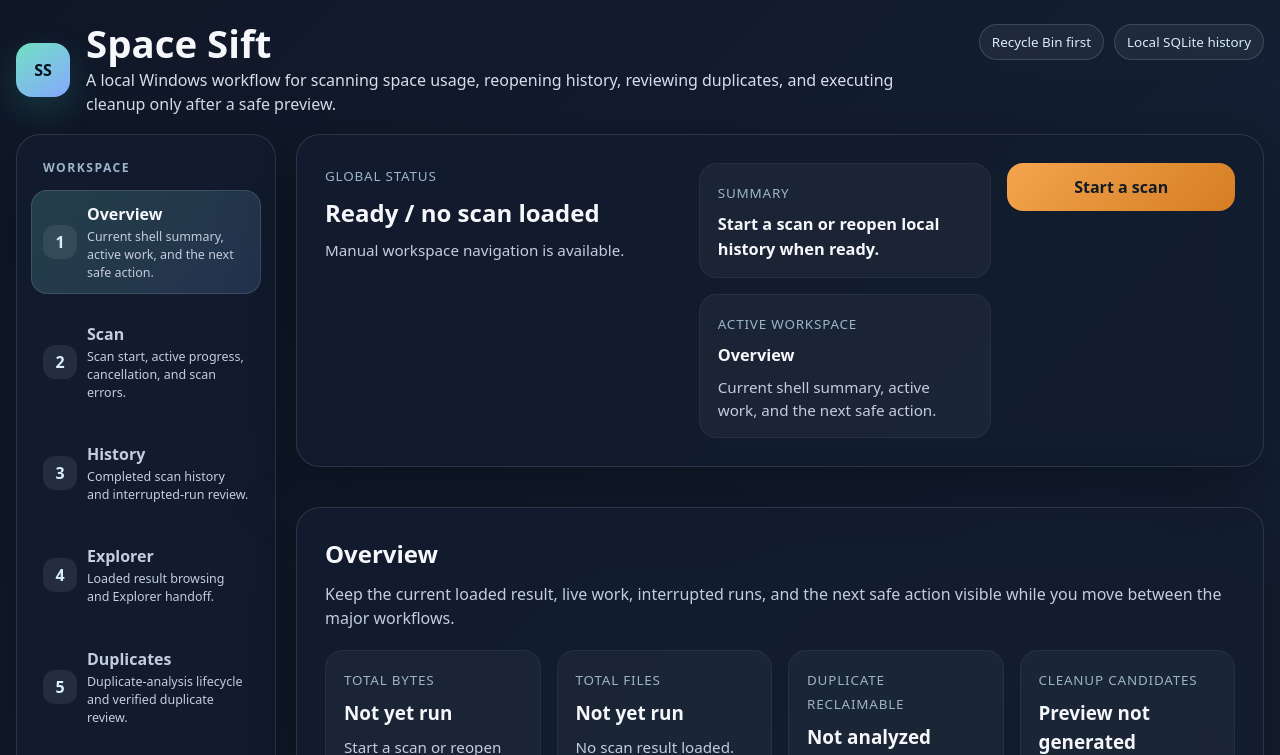
it: Space Sift milestone 2 shell › shows the branded product and scan workspace
Expected: the heading "Space Sift" is shown, [86,17,271,69]
Click the tab "Scan": (146, 362) [31,310,261,414]
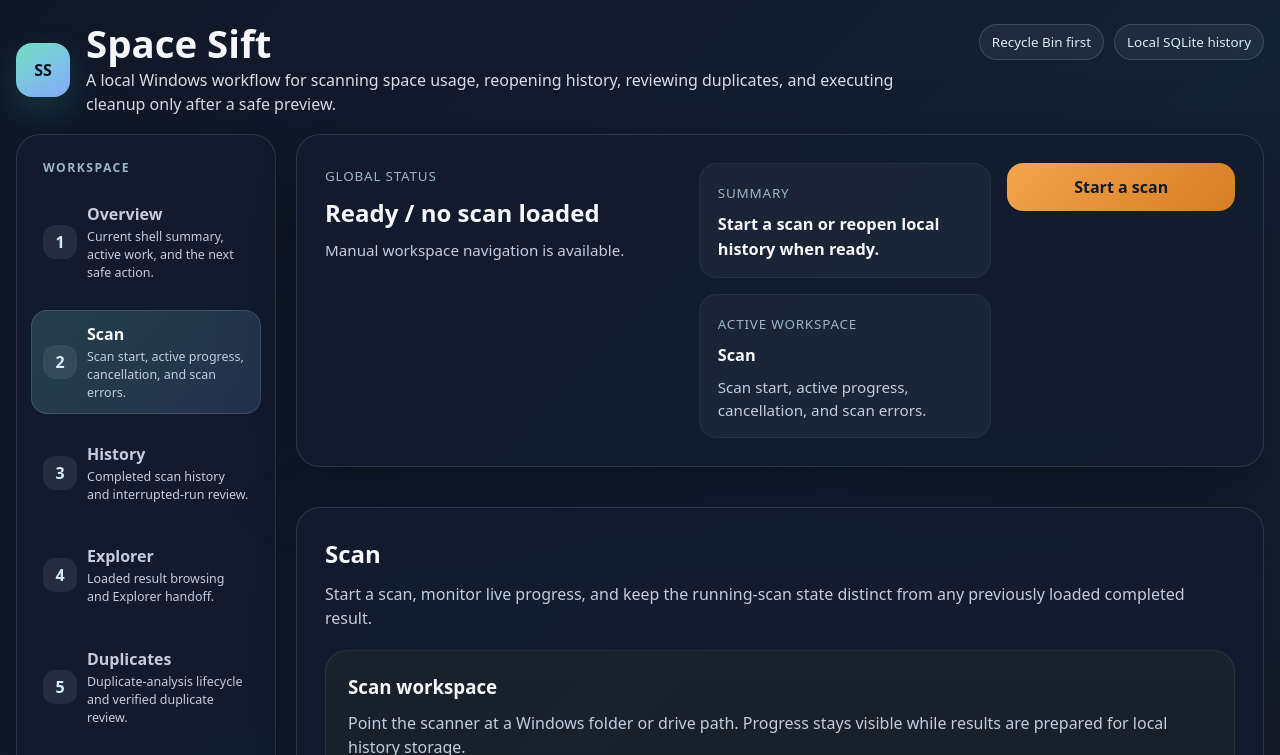
Expected: the heading "Scan workspace" is shown, [348,674,497,699]
Click the tab "History": (146, 473) [31,430,261,516]
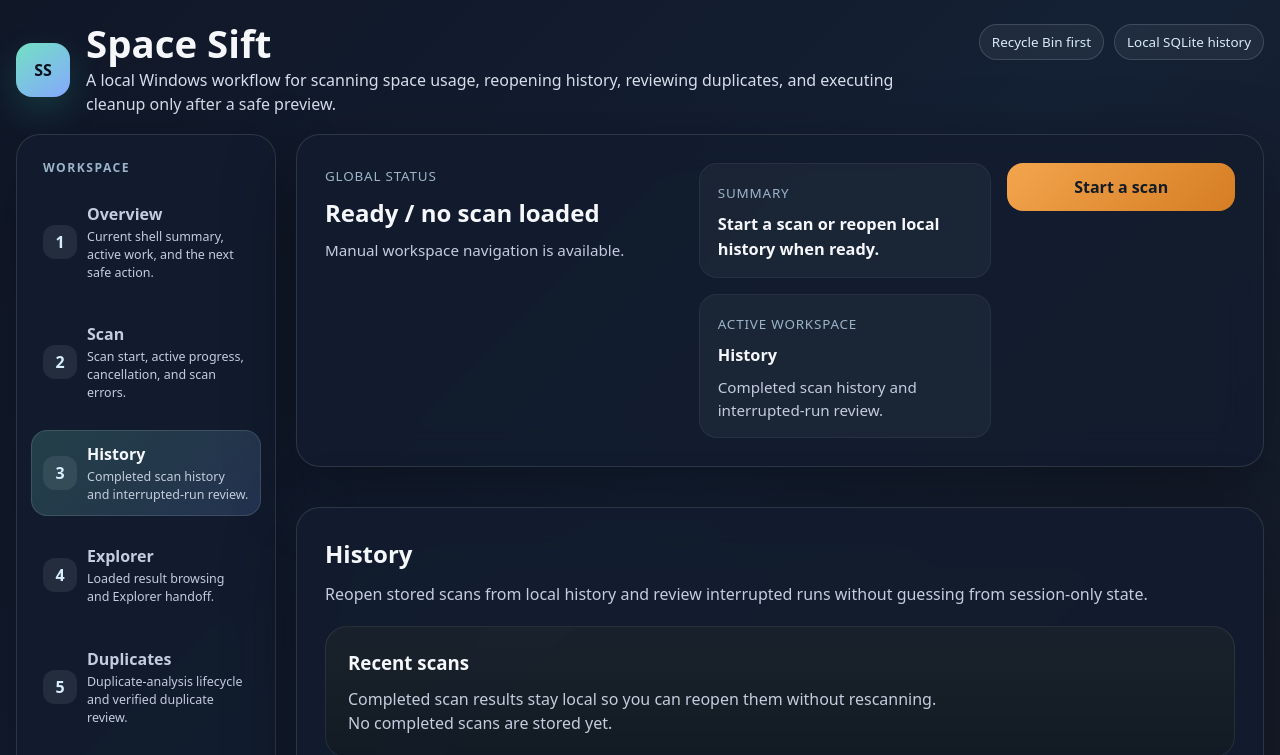
Expected: the heading "Recent scans" is shown, [348,650,469,675]
